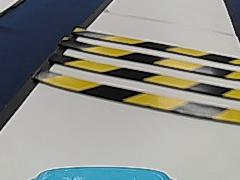bump: (35, 26, 240, 124)
